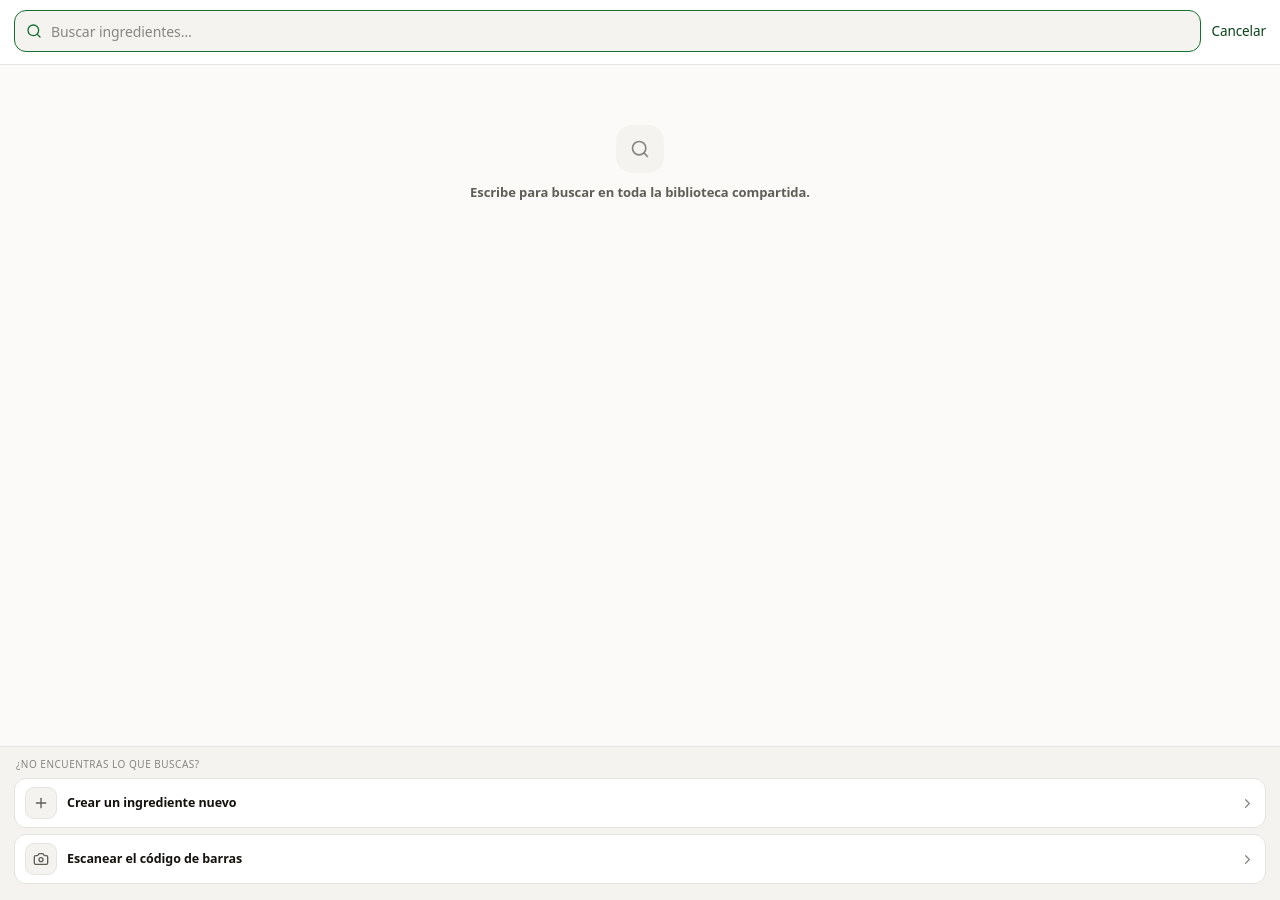
Test: IngredientSearchPage › narrows the results as the user types
This screenshot has width=1280, height=900.
Type "pollo" into the field labelled "Buscar ingredientes…" at (608, 31), box top-left (14, 10), bottom-right (1202, 52)
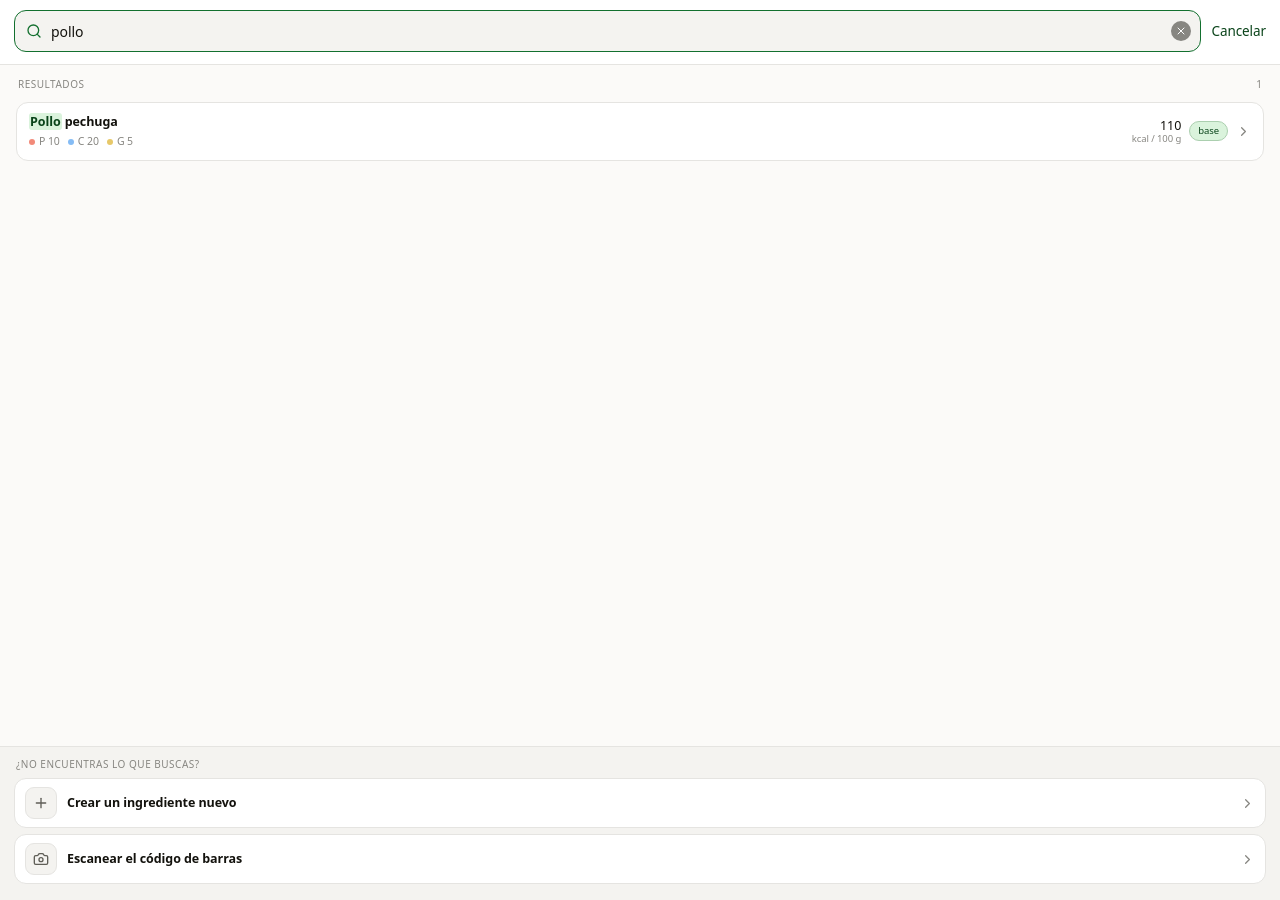
Now the text "Pollo pechuga" is shown, box top-left (29, 113), bottom-right (118, 132)
